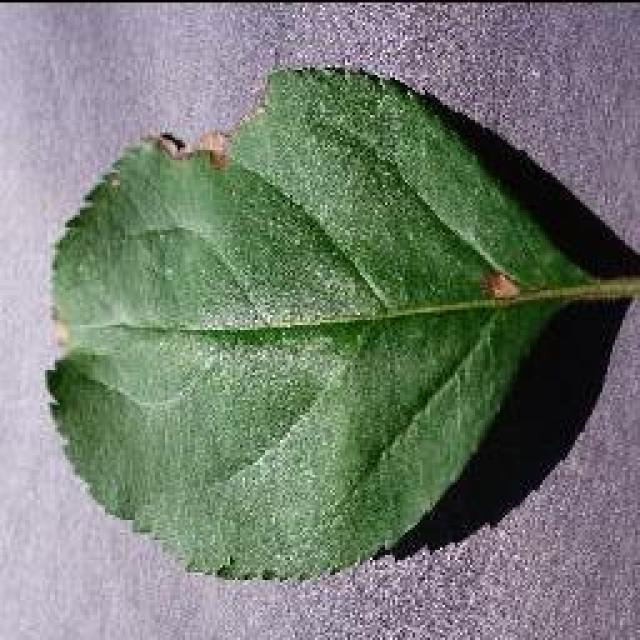apple black rot: (42, 60, 638, 585)
